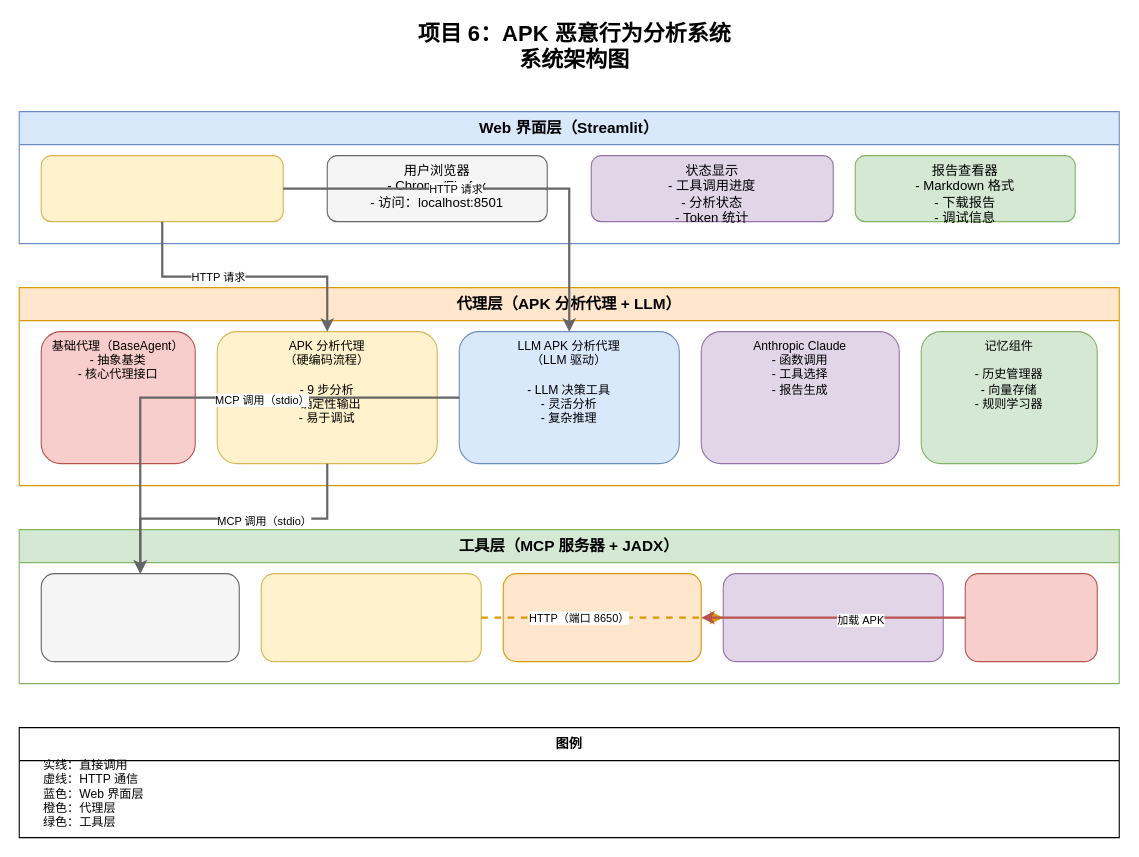
The diagram is 1139 pixels wide and 857 high, and some of its shapes have lost their labels. Here are the shapes that lost their labels. From the top down, the centre of each, then its label:
At pixel 161 188: "Web 界面（Streamlit） - 文件上传 - 配置管理 - 报告展示".
At pixel 139 617: "MCP 客户端（StdioMCPClient） - MCP 协议 - stdio 通信 - 工具执行".
At pixel 370 617: "JADX MCP 服务器 - HTTP 端点 - 工具注册 - JSON-RPC".
At pixel 601 617: "JADX-GUI - APK 反编译 - 插件宿主 - HTTP 服务器".
At pixel 832 617: "JADX AI MCP 插件 - 工具实现 - JADX API 封装 - 端口 8650".
At pixel 1030 617: "APK 文件 - Android 应用 - 输入数据".
